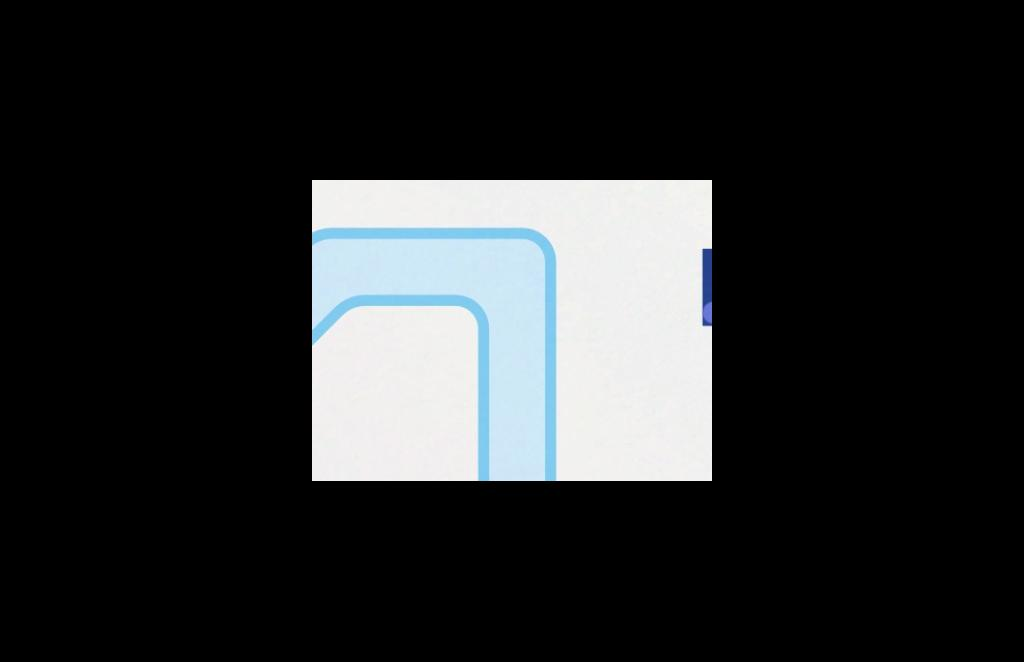train: (691, 239, 712, 336)
